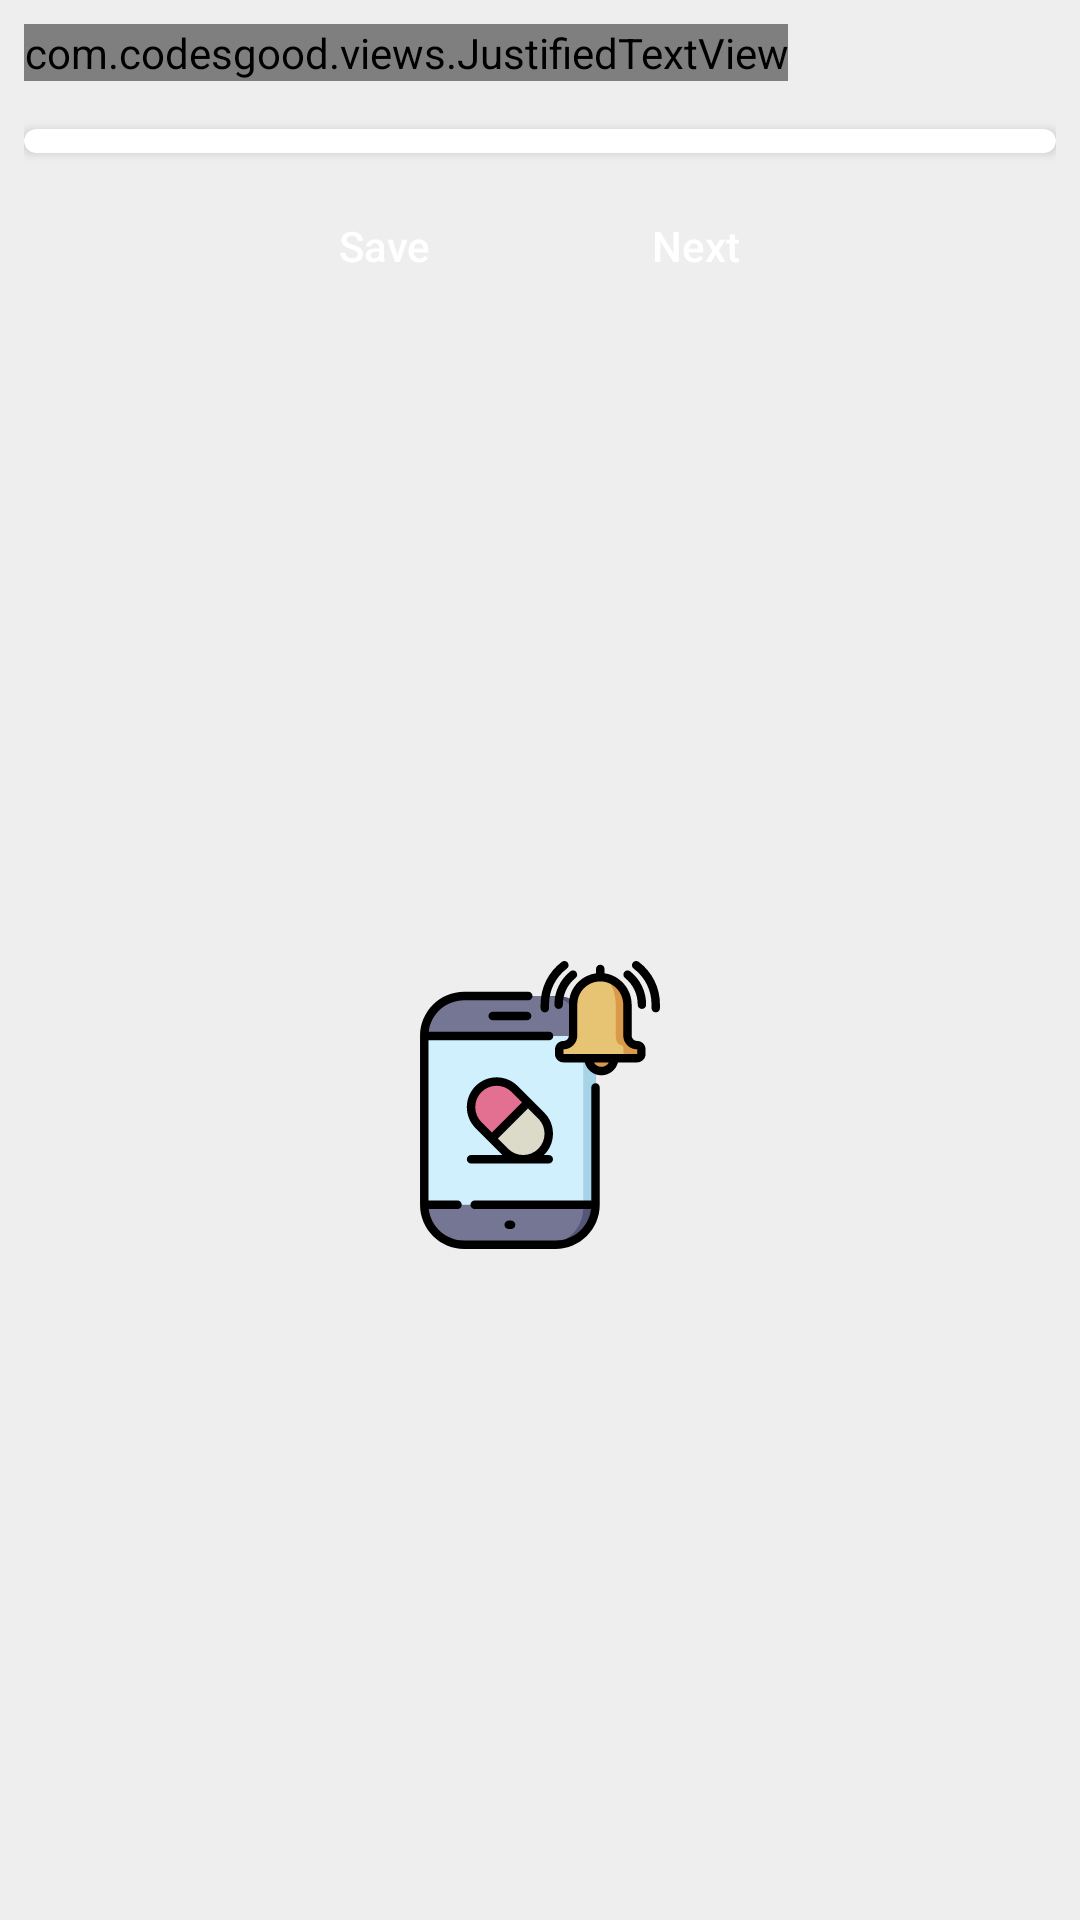

Screen size 1080px x 1920px. Icon name, then its box in pixels as (x1, y1, x2, y2):
reminder: (420, 961, 660, 1249)
